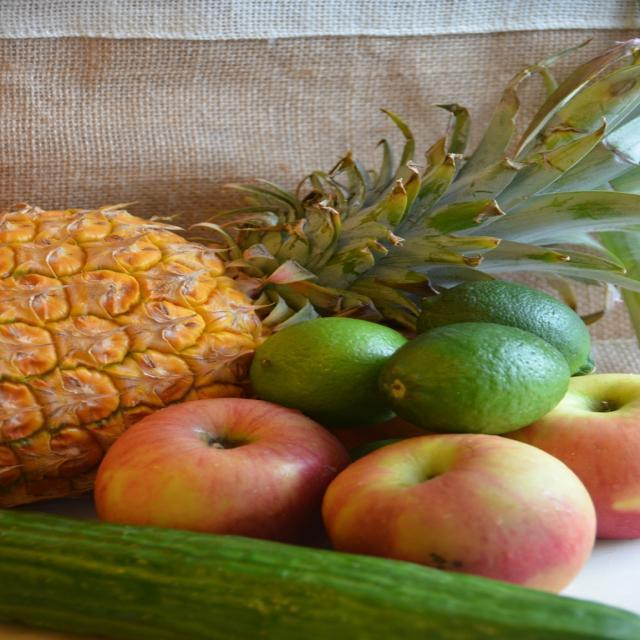Pineapple: (0, 34, 639, 508)
